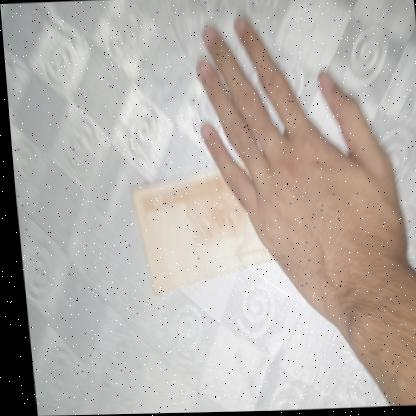twenty-back-vef: (125, 160, 274, 296)
